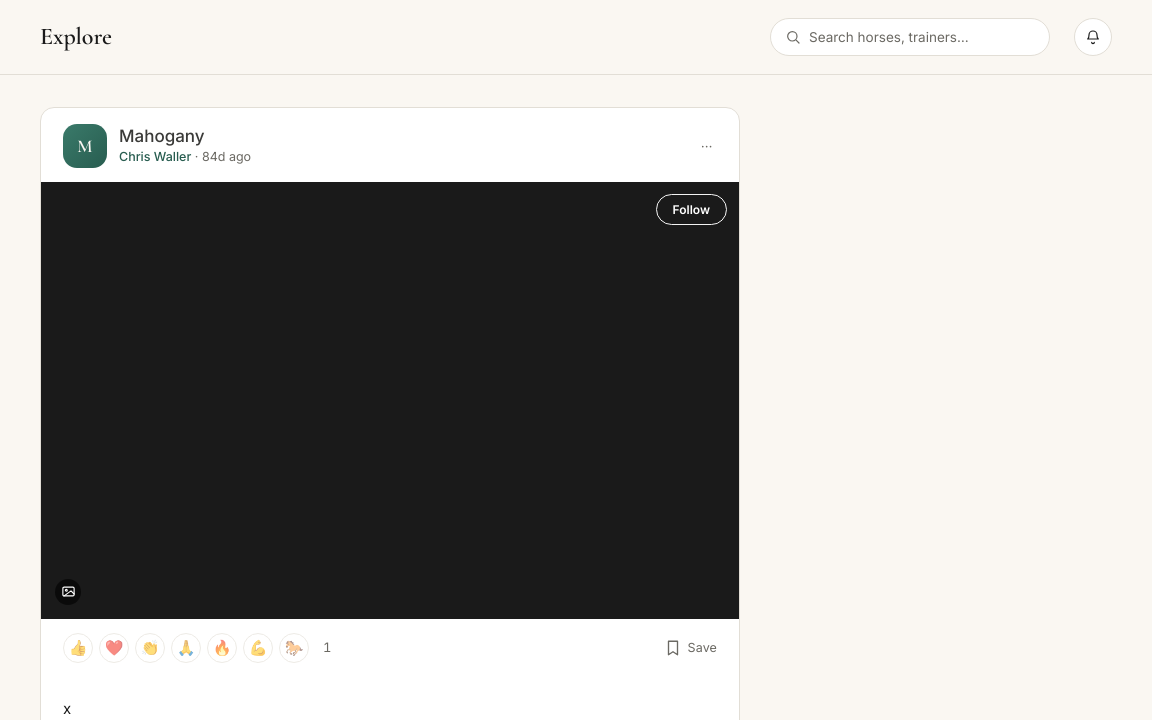
Scenario: ExploreFeed — ENG-613 view model + Follow pill › writes the follow to the `follow` table with the viewer's own id, and clears the pill
Click the button with aria-label "Follow Chris Waller": (691, 210) [656,194,727,225]
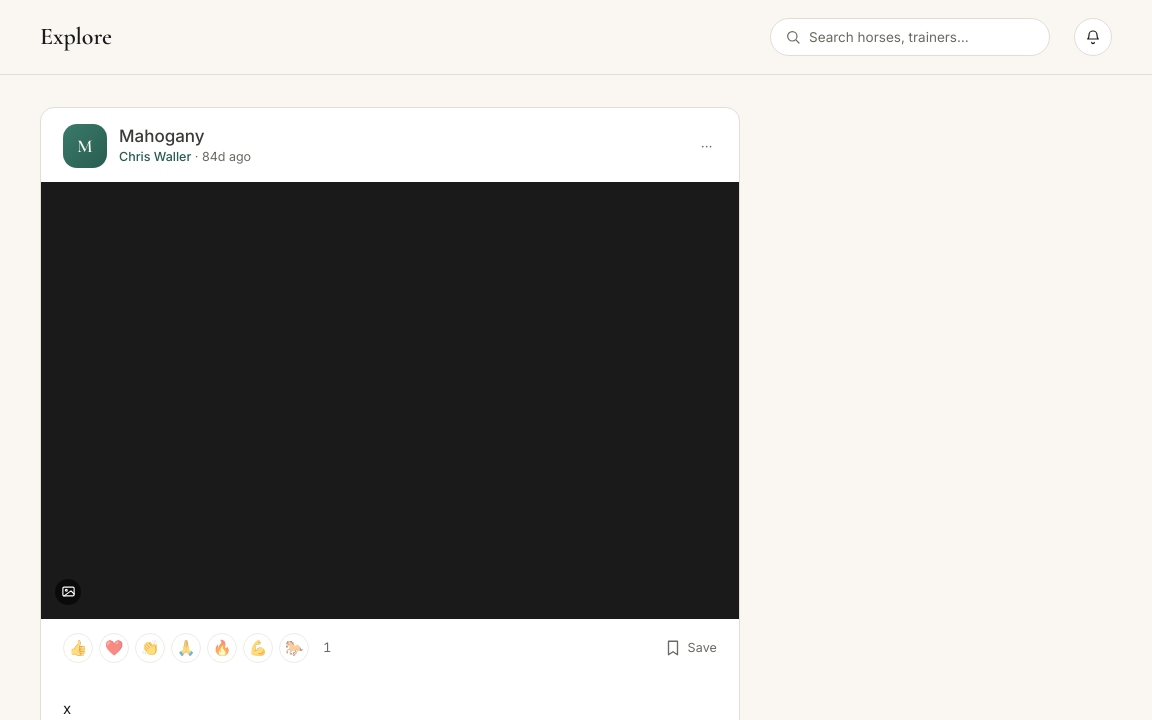
Check: the button "Follow " is gone
